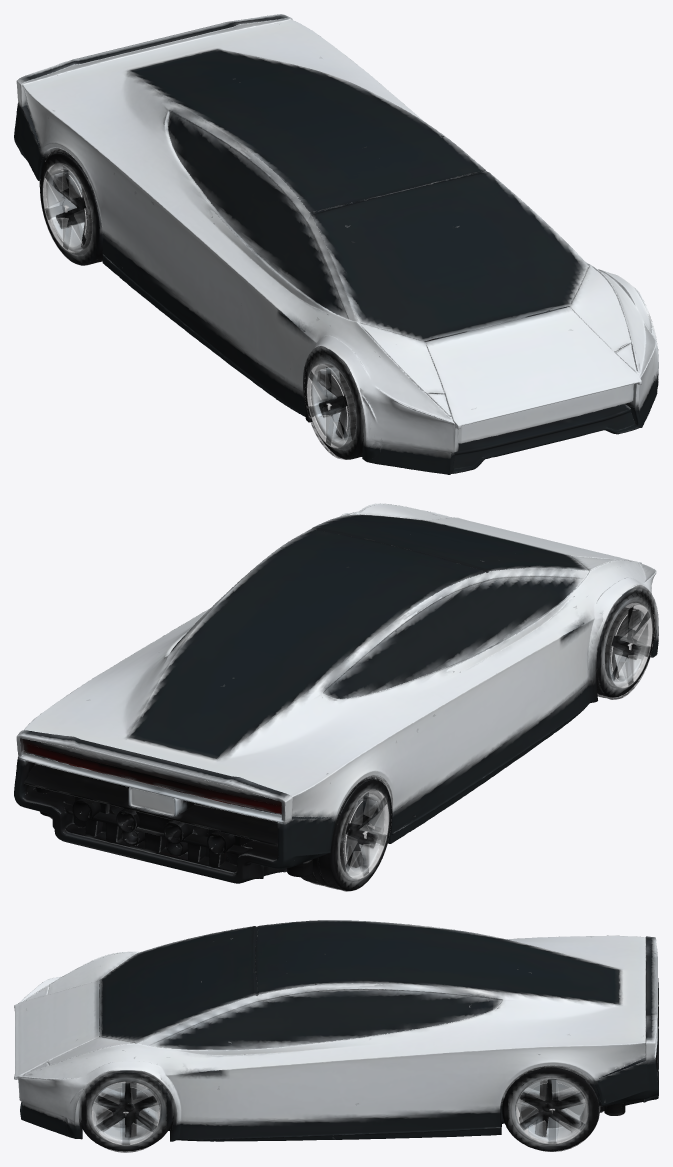
3 views of the same model, one above another, from view 1: azimuth 30°, elevation 25°; view 2: azimuth 150°, elevation 25°; view 3: azimuth 270°, elevation 25° (orthographic). The views are drawn at different scales.
Parts seen in each view (by area): view 1: model_1_asset_0, model_3_asset_2, model_4_asset_2, model_3_asset_10, model_4_asset_10, model_3_asset_11, model_4_asset_11; view 2: model_1_asset_0, model_3_asset_2, model_4_asset_2, model_3_asset_10, model_4_asset_10, model_3_asset_11, model_4_asset_11, model_4_asset_3; view 3: model_1_asset_0, model_2_asset_2, model_0_asset_2, model_2_asset_11, model_0_asset_11, model_2_asset_10, model_0_asset_10.
Boxes of the visible parts, x1=… form: model_1_asset_0: x1=14, y1=14, x2=658, y2=474; model_3_asset_2: x1=40, y1=149, x2=102, y2=264; model_4_asset_2: x1=304, y1=351, x2=359, y2=459; model_3_asset_10: x1=45, y1=166, x2=85, y2=249; model_4_asset_10: x1=309, y1=367, x2=347, y2=445; model_3_asset_11: x1=43, y1=164, x2=87, y2=252; model_4_asset_11: x1=307, y1=364, x2=348, y2=447; model_1_asset_0: x1=14, y1=503, x2=658, y2=890; model_3_asset_2: x1=305, y1=776, x2=391, y2=891; model_4_asset_2: x1=597, y1=591, x2=654, y2=699; model_3_asset_10: x1=346, y1=792, x2=386, y2=875; model_4_asset_10: x1=612, y1=607, x2=649, y2=684; model_3_asset_11: x1=343, y1=790, x2=388, y2=878; model_4_asset_11: x1=610, y1=604, x2=652, y2=687; model_4_asset_3: x1=605, y1=603, x2=651, y2=687; model_1_asset_0: x1=14, y1=920, x2=658, y2=1151; model_2_asset_2: x1=505, y1=1066, x2=600, y2=1151; model_0_asset_2: x1=82, y1=1072, x2=169, y2=1152; model_2_asset_11: x1=516, y1=1078, x2=588, y2=1143; model_0_asset_11: x1=91, y1=1083, x2=159, y2=1144; model_2_asset_10: x1=520, y1=1079, x2=584, y2=1143; model_0_asset_10: x1=95, y1=1083, x2=156, y2=1144.
Size of the model in its own units: 77.61 by 44.5 by 178.
Materials: 73 (73 with a texture image).
